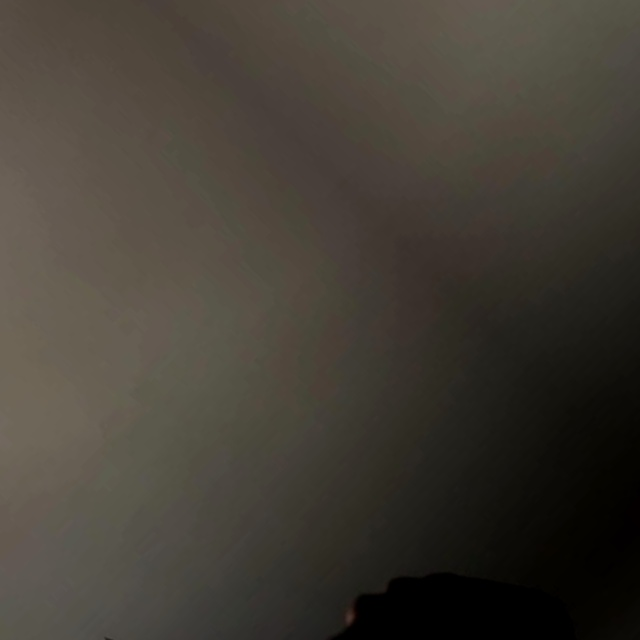Rock: (269, 502, 558, 640)
